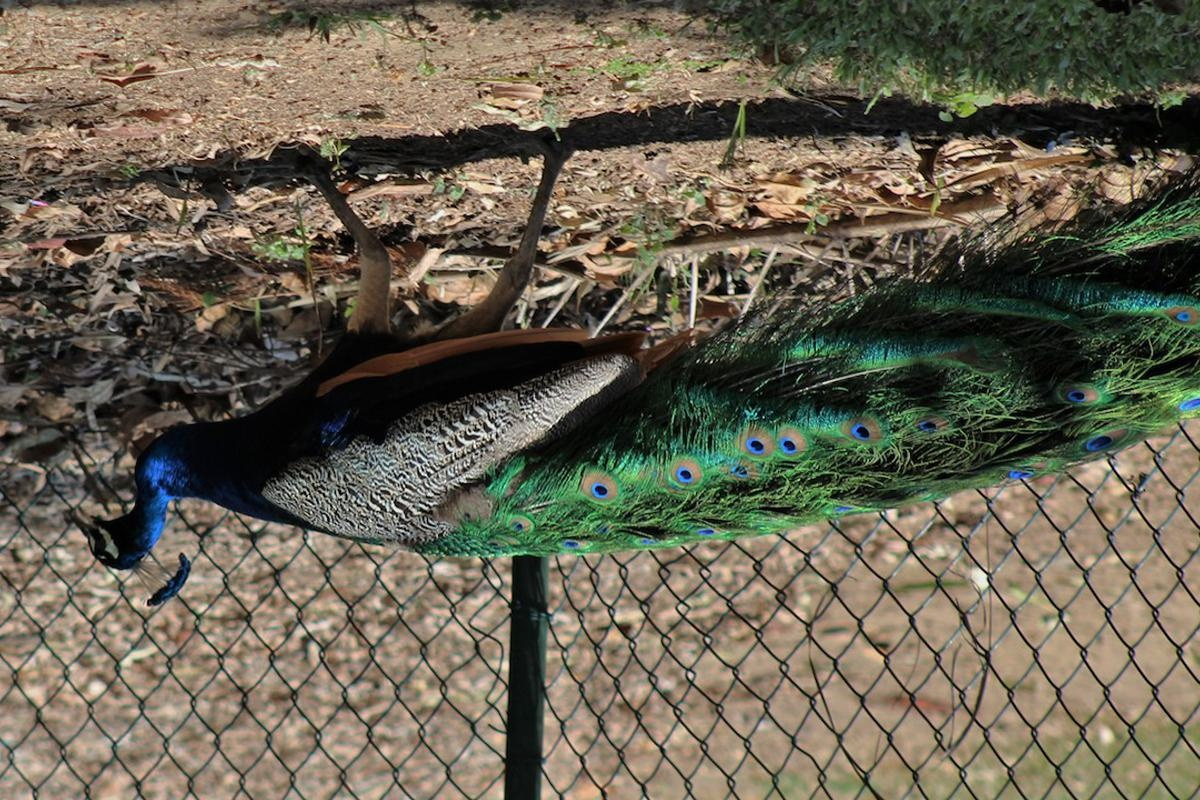peacock: (74, 204, 1200, 600)
